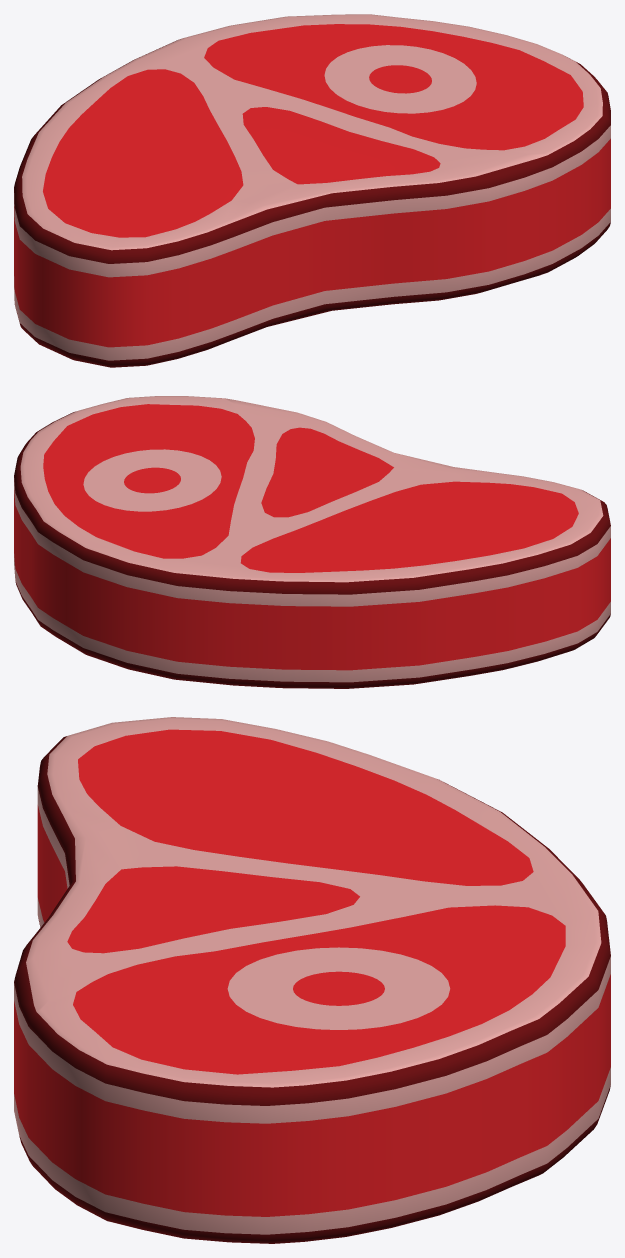
File: Meat.fbx
The picture shows the model from 3 angles, top to bottom: view 1: azimuth 30°, elevation 25°; view 2: azimuth 150°, elevation 25°; view 3: azimuth 270°, elevation 25°; orthographic projection. The views are drawn at different scales.
Visible parts, largest first — view 1: Circle; view 2: Circle; view 3: Circle.
Boxes of the visible parts, x1,y1,x2,y2 form: Circle: [14, 14, 610, 367]; Circle: [14, 396, 610, 688]; Circle: [14, 717, 610, 1243].
Bounding box in the file's own units: 1225 × 239 × 813.
